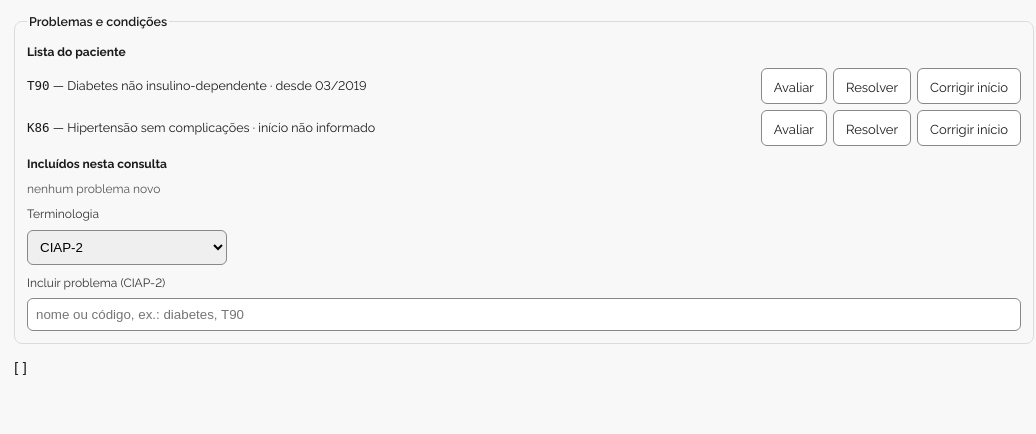
Test case: ProblemsEditor › incluir T90 que já está na lista marca avaliado e avisa
In the field labelled "Incluir problema (CIAP-2)": (524, 315) [27,298,1021,331], type "diabetes"
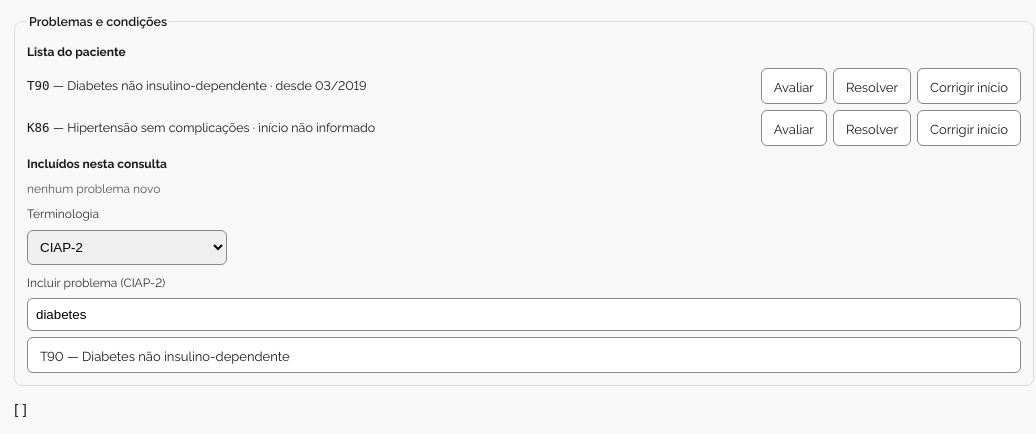
Click the button "T90 — Diabetes não insulino-dependente": (165, 355) [27,337,1021,373]
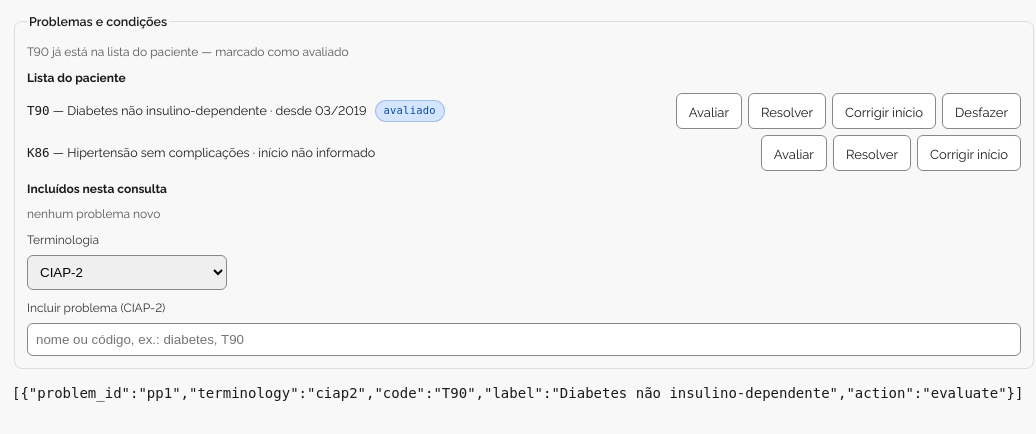
Expected: the message reads "T90 já está na lista do paciente — marcado como avaliado", [27,42,349,59]
